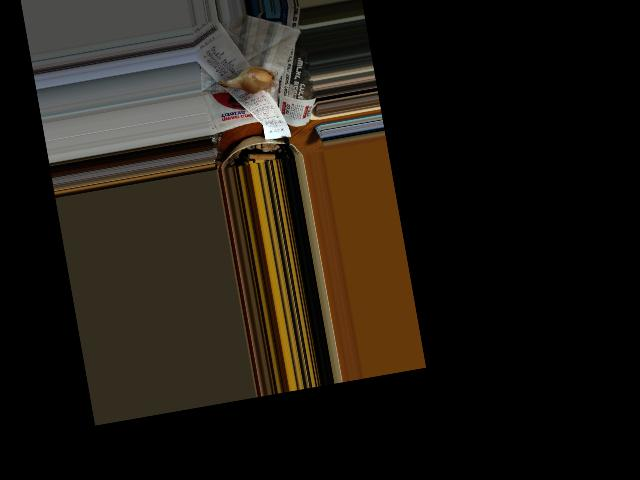onion: (233, 63, 275, 94)
